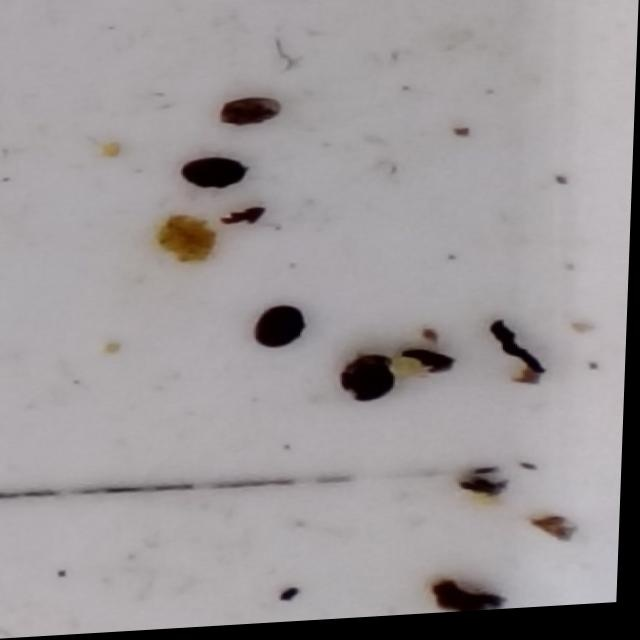varroa: (344, 358, 404, 406), (256, 305, 313, 355), (182, 159, 254, 196)
